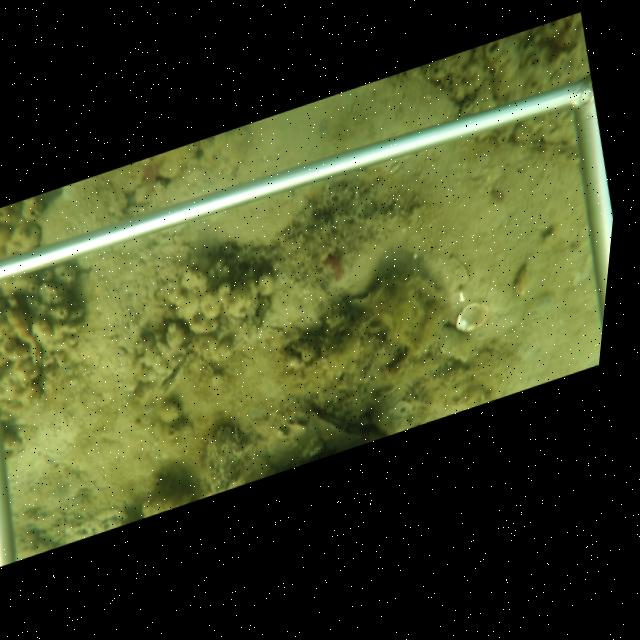Oyster-Closed: (305, 399, 369, 448)
Oyster-Open: (155, 358, 187, 397)
